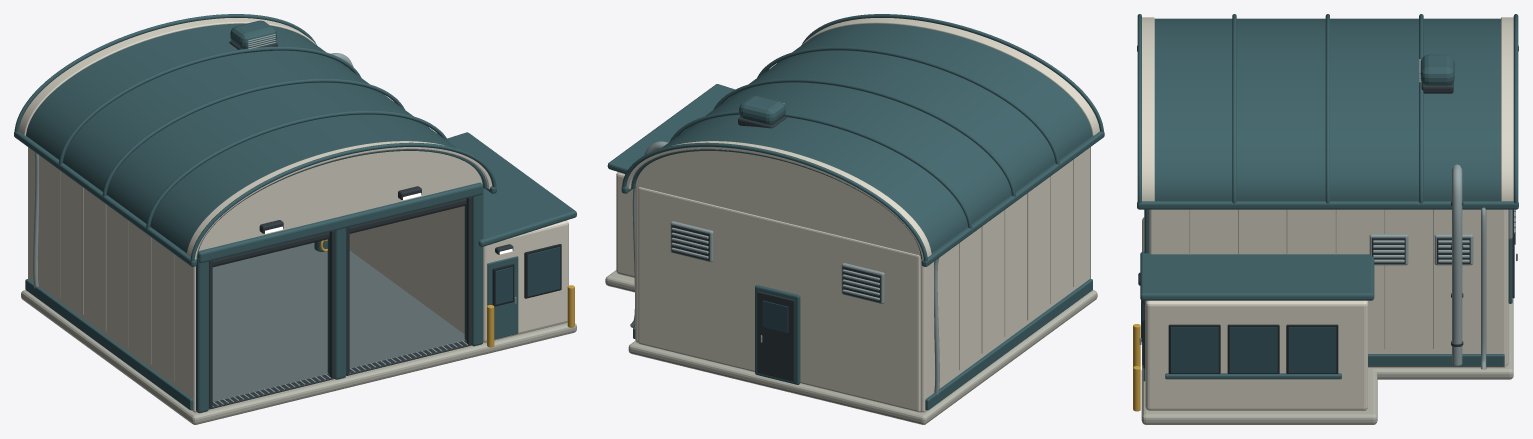
File: marine_equipment_workshop.glb
3 views of the same model, side by side, from view 1: azimuth 30°, elevation 25°; view 2: azimuth 150°, elevation 25°; view 3: azimuth 270°, elevation 25° (orthographic). The views are drawn at different scales.
Parts seen in each view (by area): view 1: Roof.ContinuousBarrel, MainBay.ShopFloor, MainBay.SideWall_-4.28, MainBay.ArchedGable_-4.32, MainBay.SideWall_4.28, MainBay.Foundation, Office.Roof, Office.CreamShell, FrontPortal.Lintel, Roof.CreamEdgeBand_4.43, SideWall.FootTrim_-4.43, Roof.CreamEdgeBand_-4.43 (+23 smaller); view 2: Roof.ContinuousBarrel, MainBay.RearWall, MainBay.SideWall_-4.28, MainBay.ArchedGable_4.32, MainBay.Foundation, Roof.CreamEdgeBand_-4.43, RearServiceDoor.Leaf, SideWall.FootTrim_-4.43, Office.Roof, Roof.CreamEdgeBand_4.43, Roof.EaveGutter_-4.56, Roof.StructuralRib_5 (+12 smaller); view 3: Roof.ContinuousBarrel, MainBay.SideWall_4.28, Office.CreamShell, Office.Roof, Office.Foundation, Roof.EaveGutter_4.56, Roof.CreamEdgeBand_-4.43, Roof.CreamEdgeBand_4.43, MainBay.Foundation, Office.SideWindow_-3.28.Glass, Office.SideWindow_-1.83.Glass, Office.SideWindow_-0.38.Glass (+17 smaller).
Boxes of the visible parts, x1,y1,x2,y2 form: Roof.ContinuousBarrel: (26,23,487,258); MainBay.ShopFloor: (209,242,471,409); MainBay.SideWall_-4.28: (28,147,196,412); MainBay.ArchedGable_-4.32: (199,151,482,250); MainBay.SideWall_4.28: (349,206,464,334); MainBay.Foundation: (21,290,485,424); Office.Roof: (447,132,576,246); Office.CreamShell: (483,220,568,342); FrontPortal.Lintel: (197,182,483,263); Roof.CreamEdgeBand_4.43: (18,18,316,135); SideWall.FootTrim_-4.43: (25,279,193,410); Roof.CreamEdgeBand_-4.43: (187,141,492,259); Roof.ContinuousBarrel: (631,23,1092,259); MainBay.RearWall: (638,187,920,412); MainBay.SideWall_-4.28: (920,147,1090,412); MainBay.ArchedGable_4.32: (635,151,920,256); MainBay.Foundation: (628,290,1097,424); Roof.CreamEdgeBand_-4.43: (802,18,1099,135); RearServiceDoor.Leaf: (757,291,794,381); SideWall.FootTrim_-4.43: (925,279,1092,410); Office.Roof: (607,84,734,173); Roof.CreamEdgeBand_4.43: (626,141,931,259); Roof.EaveGutter_-4.56: (921,131,1104,266); Roof.StructuralRib_5: (622,142,927,261); Roof.ContinuousBarrel: (1154,18,1500,200); MainBay.SideWall_4.28: (1149,209,1506,367); Office.CreamShell: (1145,300,1367,410); Office.Roof: (1140,251,1374,300); Office.Foundation: (1141,367,1377,424); Roof.EaveGutter_4.56: (1137,201,1518,209); Roof.CreamEdgeBand_-4.43: (1142,17,1154,201); Roof.CreamEdgeBand_4.43: (1501,17,1513,201); MainBay.Foundation: (1142,217,1513,379); Office.SideWindow_-3.28.Glass: (1170,327,1218,373); Office.SideWindow_-1.83.Glass: (1229,327,1277,373); Office.SideWindow_-0.38.Glass: (1288,327,1336,373).
Size of what is drawn, in the model's own units: 11.81 by 7.27 by 9.49.
